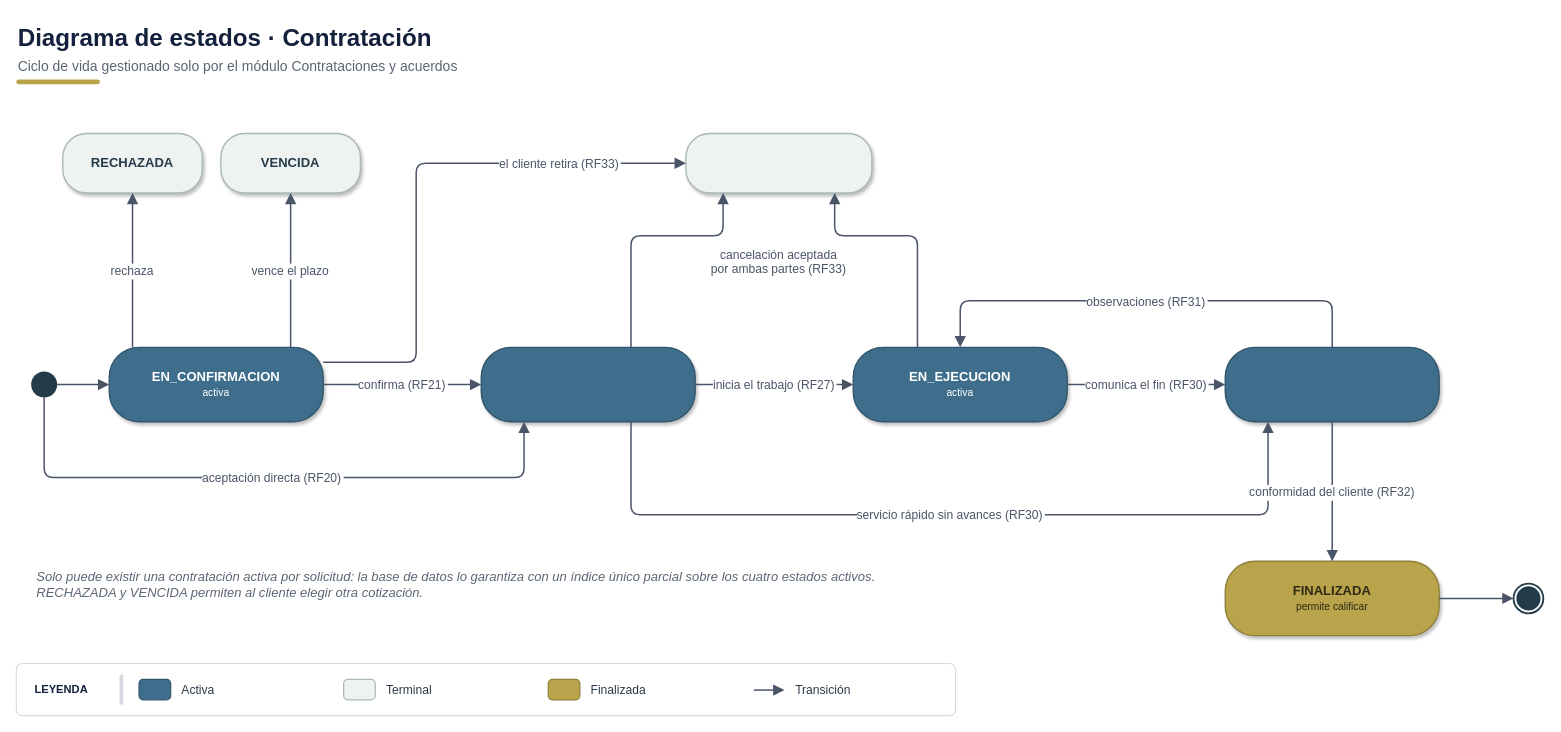
The diagram is 1561 pixels wide and 732 high, and some of its shapes have lost their labels. Each missing label, with the centre of its shape:
"CANCELADA" belongs at point 779,164.
"CIERRE_SOLICITADO activa" belongs at point 1332,386.
"CONFIRMADA activa" belongs at point 588,386.
